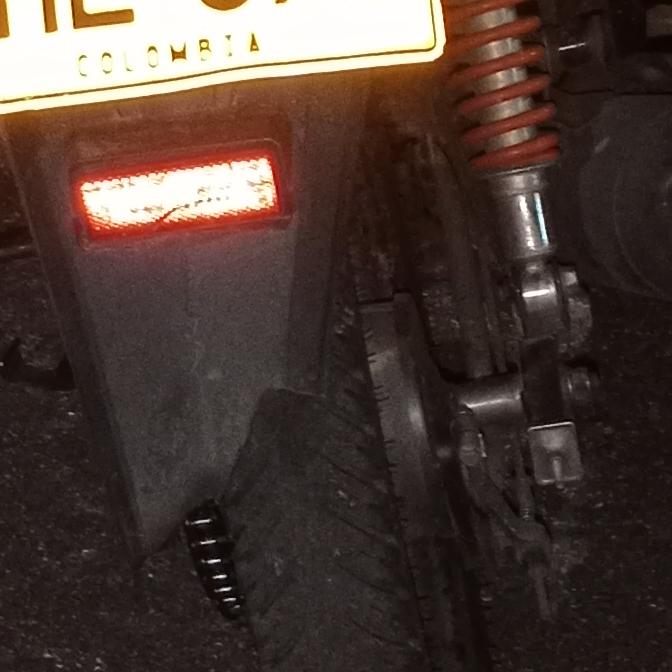plates: (0, 0, 449, 121)
